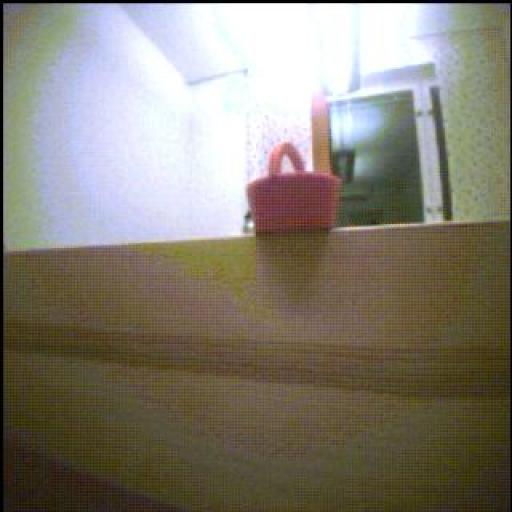Bucket: (248, 138, 339, 237)
